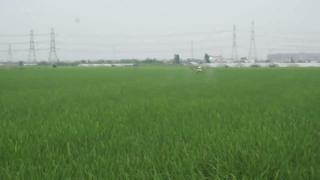UAV: (190, 66, 210, 74)
